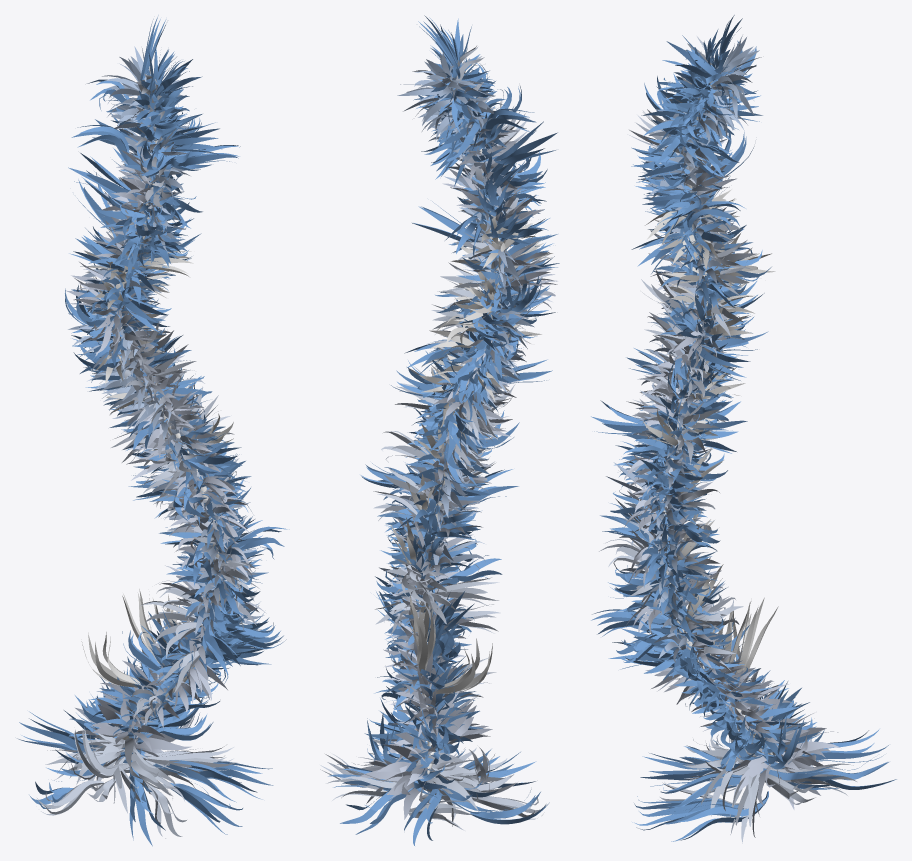
3 views of the same model, side by side, from view 1: azimuth 30°, elevation 25°; view 2: azimuth 150°, elevation 25°; view 3: azimuth 270°, elevation 25° (orthographic).
Visible parts, largest first — view 1: brush_Petal_g0_b0, brush_Petal_g0_b1; view 2: brush_Petal_g0_b0, brush_Petal_g0_b1; view 3: brush_Petal_g0_b0, brush_Petal_g0_b1.
Part boxes in pixels (box(x1,y1,x2,y2)): brush_Petal_g0_b0: box(17, 46, 289, 846); brush_Petal_g0_b1: box(140, 15, 201, 279); brush_Petal_g0_b0: box(320, 18, 559, 845); brush_Petal_g0_b1: box(413, 15, 487, 252); brush_Petal_g0_b0: box(591, 35, 896, 843); brush_Petal_g0_b1: box(657, 15, 742, 263).
Bounding box in the file's own units: 0.2156 × 0.7637 × 0.2642.
